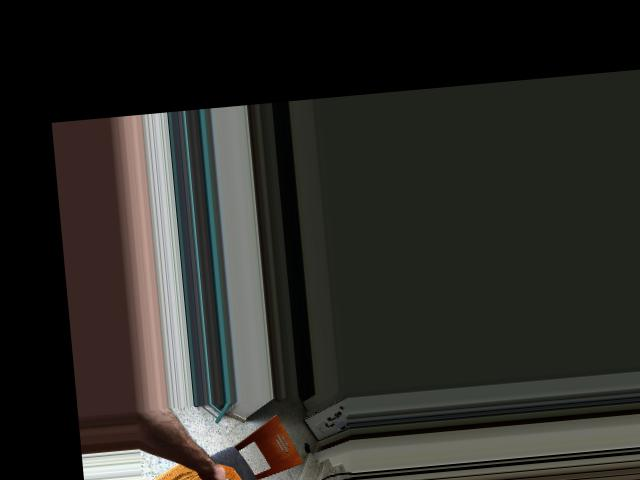cheese: (210, 472, 262, 480)
